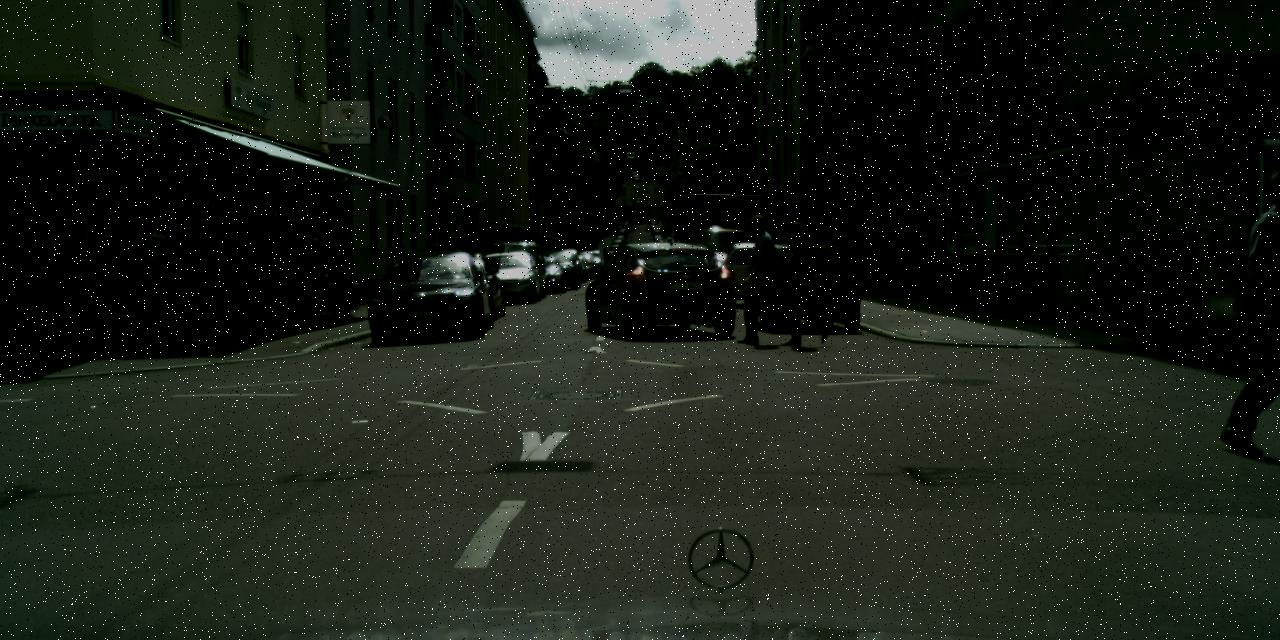ped: (1221, 169, 1279, 452), (743, 214, 793, 338), (780, 222, 829, 341)
